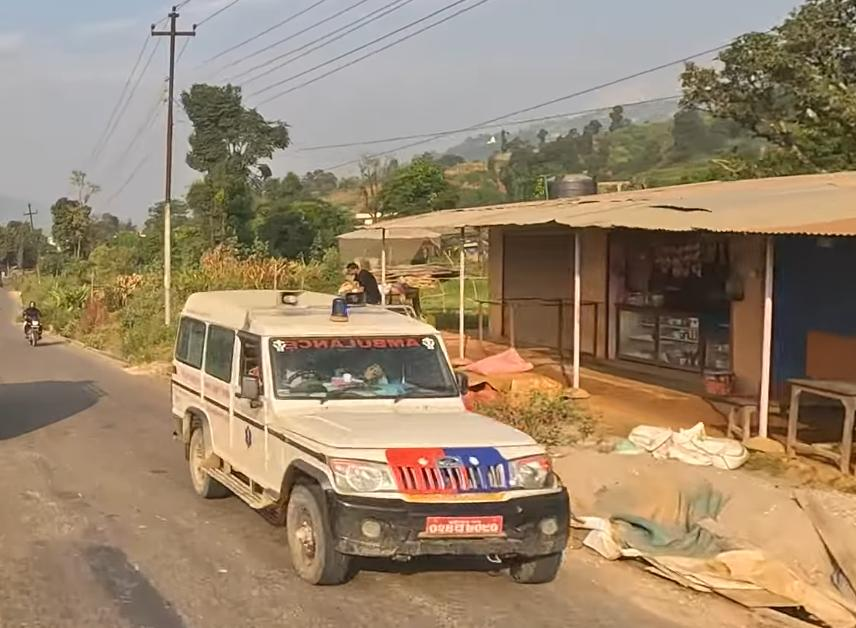ambulance: (157, 278, 582, 598)
